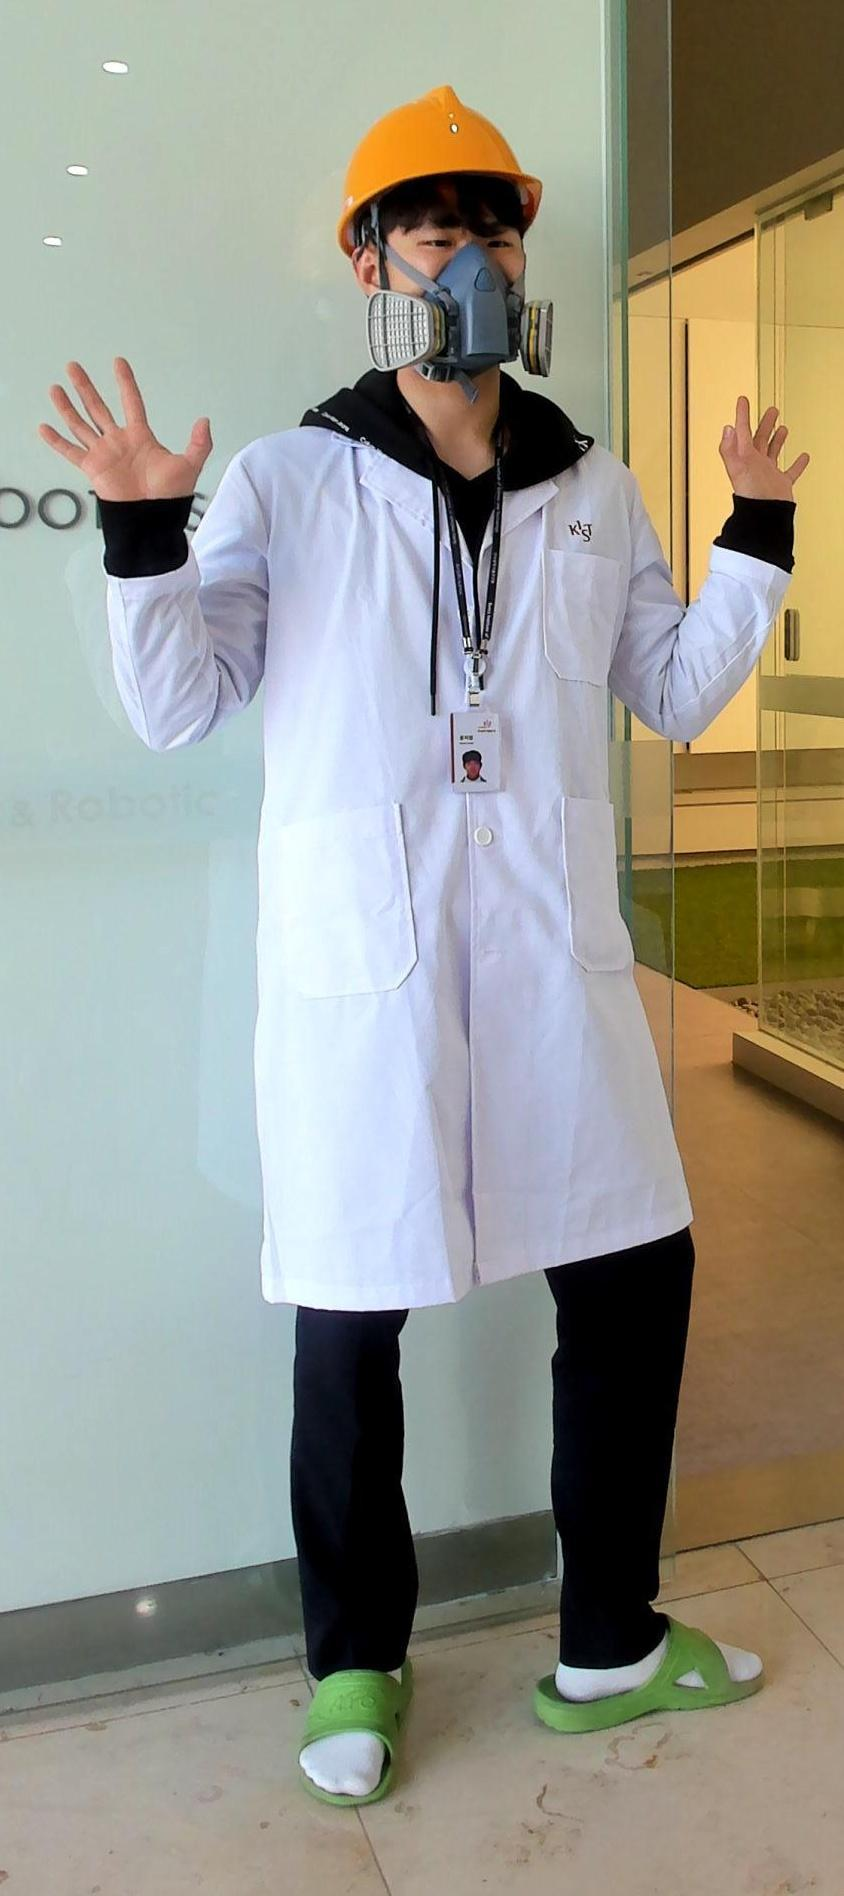lab_coat: (221, 474, 681, 1261)
